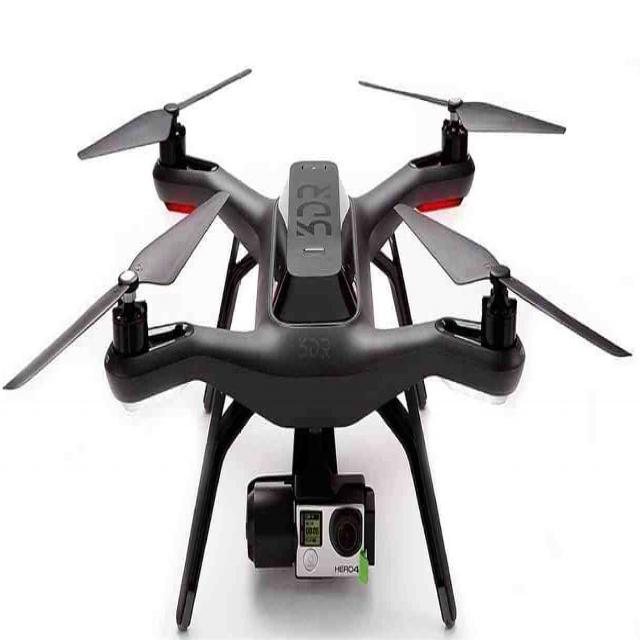drone: (0, 60, 634, 632)
